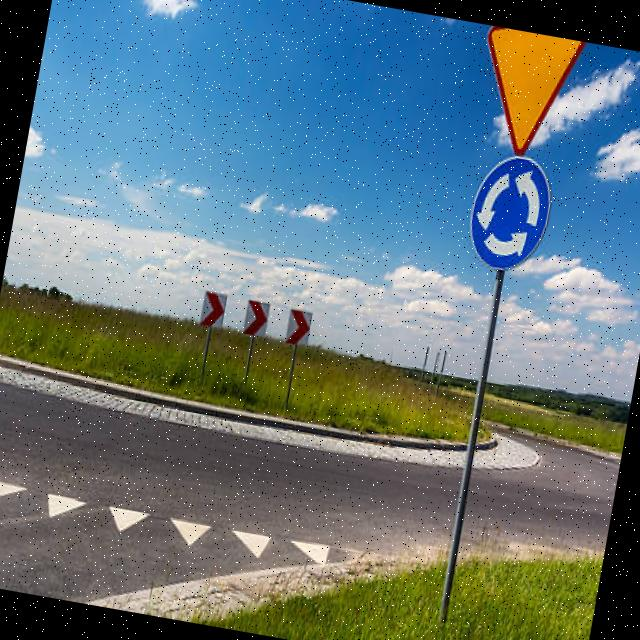round_about: (457, 146, 562, 283)
